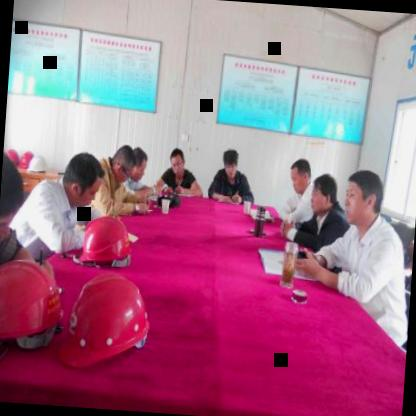head: (0, 146, 33, 260), (340, 164, 388, 234), (58, 146, 106, 214), (308, 169, 340, 219), (108, 143, 138, 190), (286, 154, 314, 198), (218, 146, 243, 181), (130, 144, 151, 184), (167, 146, 188, 180)
